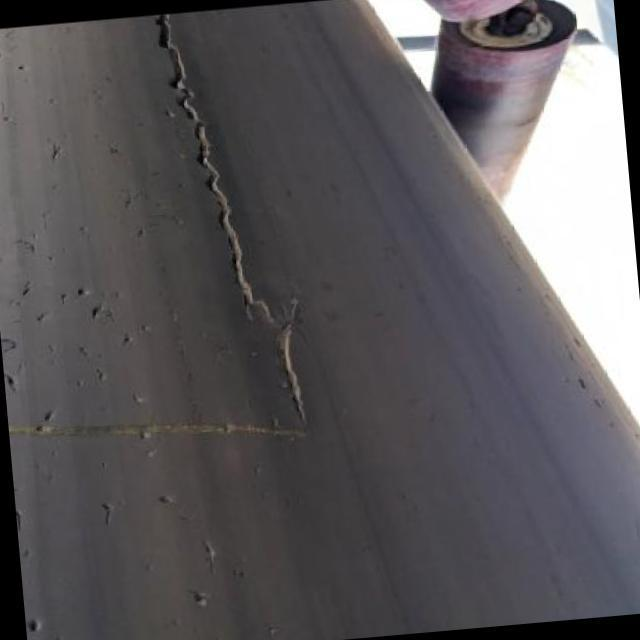Puncture: (0, 368, 23, 390), (193, 584, 210, 612), (157, 486, 176, 509), (26, 616, 48, 635), (159, 106, 176, 122), (30, 421, 48, 434), (75, 283, 87, 302), (137, 430, 156, 442), (43, 406, 57, 420), (90, 305, 102, 321)
Tear: (147, 12, 315, 431), (0, 419, 322, 443), (198, 530, 224, 576), (99, 493, 117, 531), (48, 141, 65, 167)
